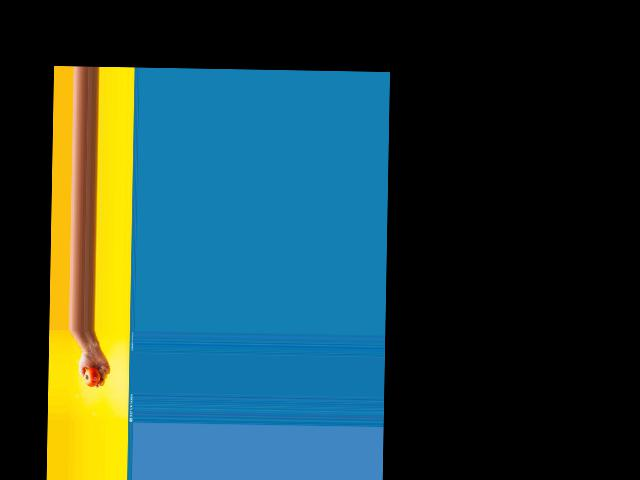tomato: (84, 367, 101, 386)
